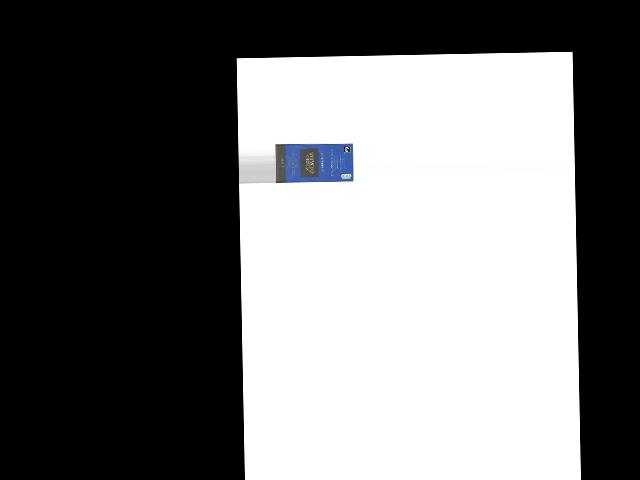chocolate: (275, 142, 352, 183)
